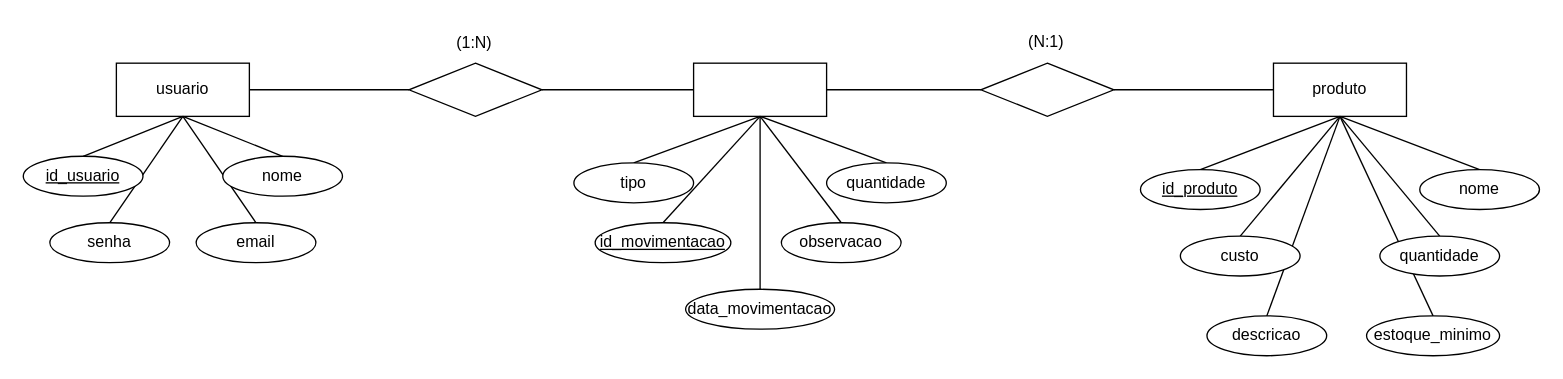
The diagram is 1563 pixels wide and 379 high, and some of its shapes have lost their labels. The box of each missing label's shape, as (x1, y1, x2, y2) in pixels:
movimentacao: (692, 62, 827, 116)
possui: (980, 62, 1114, 116)
realiza: (408, 62, 542, 116)
